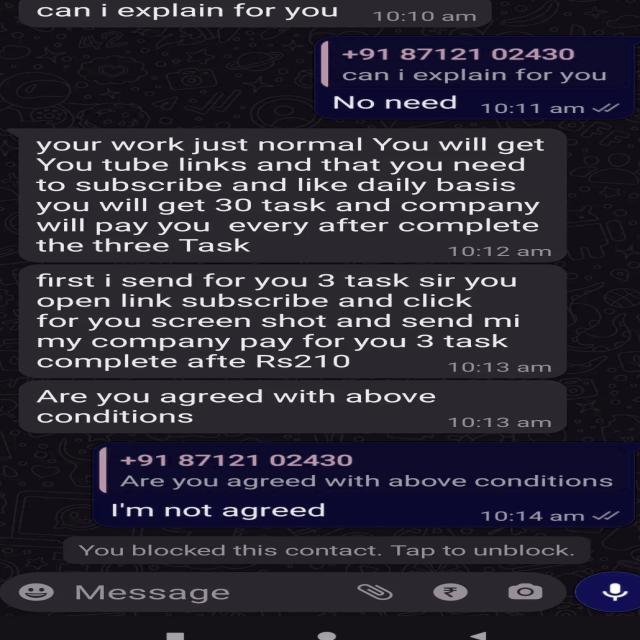scam: (10, 126, 566, 261), (10, 270, 565, 380), (22, 390, 568, 438), (12, 0, 492, 30)
